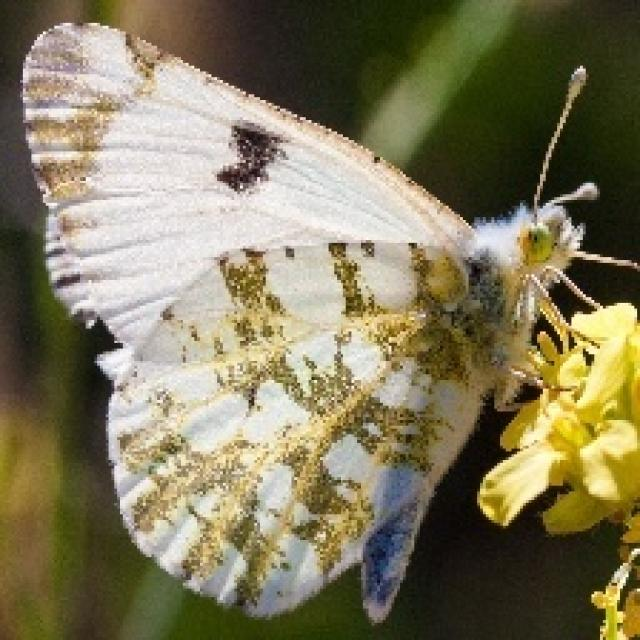butterfly: (17, 17, 637, 626)
